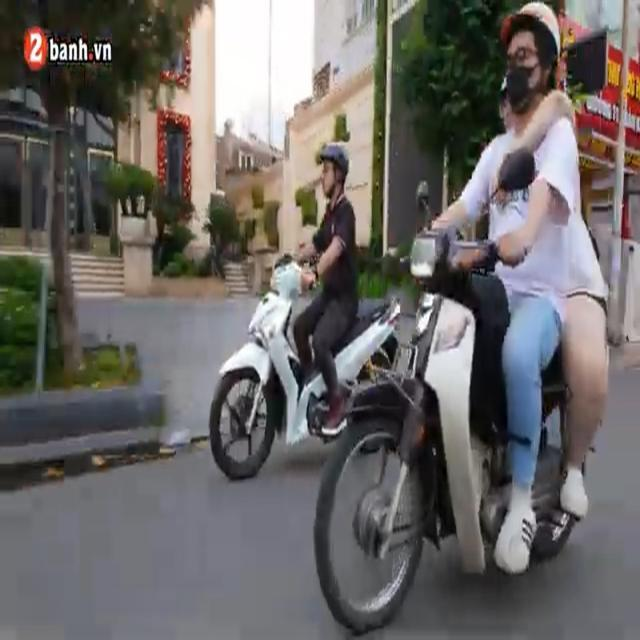motorcycle: (305, 148, 621, 639), (205, 250, 412, 483)
